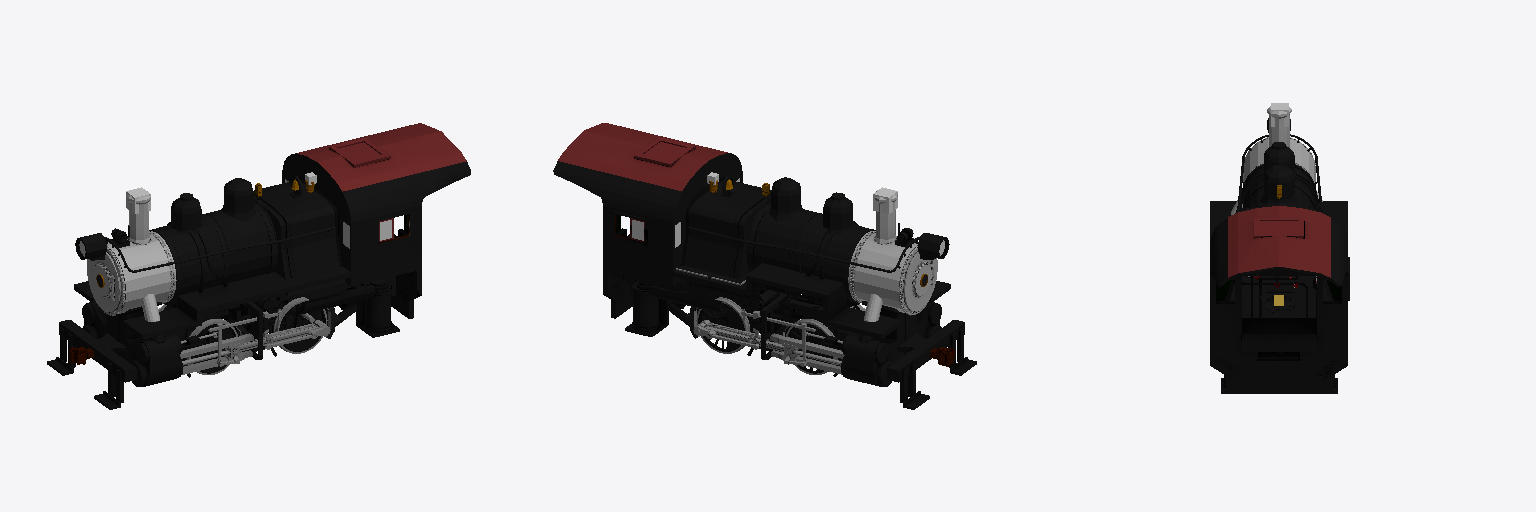
3 views of the same model, side by side, from view 1: azimuth 30°, elevation 25°; view 2: azimuth 150°, elevation 25°; view 3: azimuth 270°, elevation 25° (orthographic).
Visible parts, largest first — view 1: CAB_INTERIOR_Cylinder.047, A5Body_Cylinder.009, FIREBOX_Cylinder.002, SMOKEBOX_Cylinder.050, FRAME_Cylinder.049, STEAM_CHEST.001_Cube.000, BOILER_SEGMENT_2_Cylinder.008, BOILER_SEGMENT_1_Cylinder.007, STEAM_CHEST_Cylinder.000, A5_Steam_Dome_Cylinder.055, WHEEL_DRIVER_2_Cylinder.054, A5Body.006_Cylinder.057 (+4 smaller); view 2: CAB_INTERIOR_Cylinder.047, A5Body_Cylinder.009, SMOKEBOX_Cylinder.050, FIREBOX_Cylinder.002, FRAME_Cylinder.049, STEAM_CHEST.001_Cube.000, BOILER_SEGMENT_2_Cylinder.008, BOILER_SEGMENT_1_Cylinder.007, STEAM_CHEST_Cylinder.000, WHEEL_DRIVER_2_Cylinder.054, A5_Steam_Dome_Cylinder.055, A5Body.006_Cylinder.057 (+4 smaller); view 3: CAB_INTERIOR_Cylinder.047, FIREBOX_Cylinder.002, SMOKEBOX_Cylinder.050, A5Body_Cylinder.009, A5_Steam_Dome_Cylinder.055, BOILER_SEGMENT_2_Cylinder.008, A5Body.006_Cylinder.057.
Part boxes in pixels (bbox=[...]): CAB_INTERIOR_Cylinder.047: bbox=[282, 123, 470, 318]; A5Body_Cylinder.009: bbox=[74, 222, 399, 377]; FIREBOX_Cylinder.002: bbox=[254, 182, 352, 299]; SMOKEBOX_Cylinder.050: bbox=[87, 191, 176, 315]; FRAME_Cylinder.049: bbox=[47, 276, 395, 409]; STEAM_CHEST.001_Cube.000: bbox=[82, 294, 201, 386]; BOILER_SEGMENT_2_Cylinder.008: bbox=[202, 202, 277, 284]; BOILER_SEGMENT_1_Cylinder.007: bbox=[149, 216, 223, 303]; STEAM_CHEST_Cylinder.000: bbox=[158, 302, 272, 374]; A5_Steam_Dome_Cylinder.055: bbox=[222, 178, 255, 221]; WHEEL_DRIVER_2_Cylinder.054: bbox=[274, 297, 327, 353]; A5Body.006_Cylinder.057: bbox=[171, 193, 201, 234]; CAB_INTERIOR_Cylinder.047: bbox=[553, 123, 742, 318]; A5Body_Cylinder.009: bbox=[609, 221, 950, 376]; SMOKEBOX_Cylinder.050: bbox=[848, 190, 937, 315]; FIREBOX_Cylinder.002: bbox=[674, 181, 770, 299]; FRAME_Cylinder.049: bbox=[629, 280, 976, 409]; STEAM_CHEST.001_Cube.000: bbox=[822, 294, 941, 386]; BOILER_SEGMENT_2_Cylinder.008: bbox=[746, 202, 822, 272]; BOILER_SEGMENT_1_Cylinder.007: bbox=[801, 215, 875, 302]; STEAM_CHEST_Cylinder.000: bbox=[751, 290, 865, 374]; WHEEL_DRIVER_2_Cylinder.054: bbox=[695, 297, 749, 353]; A5_Steam_Dome_Cylinder.055: bbox=[769, 177, 802, 221]; A5Body.006_Cylinder.057: bbox=[823, 192, 853, 234]; CAB_INTERIOR_Cylinder.047: bbox=[1210, 206, 1347, 393]; FIREBOX_Cylinder.002: bbox=[1225, 207, 1333, 317]; SMOKEBOX_Cylinder.050: bbox=[1243, 106, 1315, 182]; A5Body_Cylinder.009: bbox=[1210, 172, 1347, 393]; A5_Steam_Dome_Cylinder.055: bbox=[1260, 165, 1298, 203]; BOILER_SEGMENT_2_Cylinder.008: bbox=[1243, 184, 1315, 208]; A5Body.006_Cylinder.057: bbox=[1262, 142, 1295, 175].
Size of the model in its own units: 9.8 by 4.66 by 3.21.
13 materials, 2 textured.